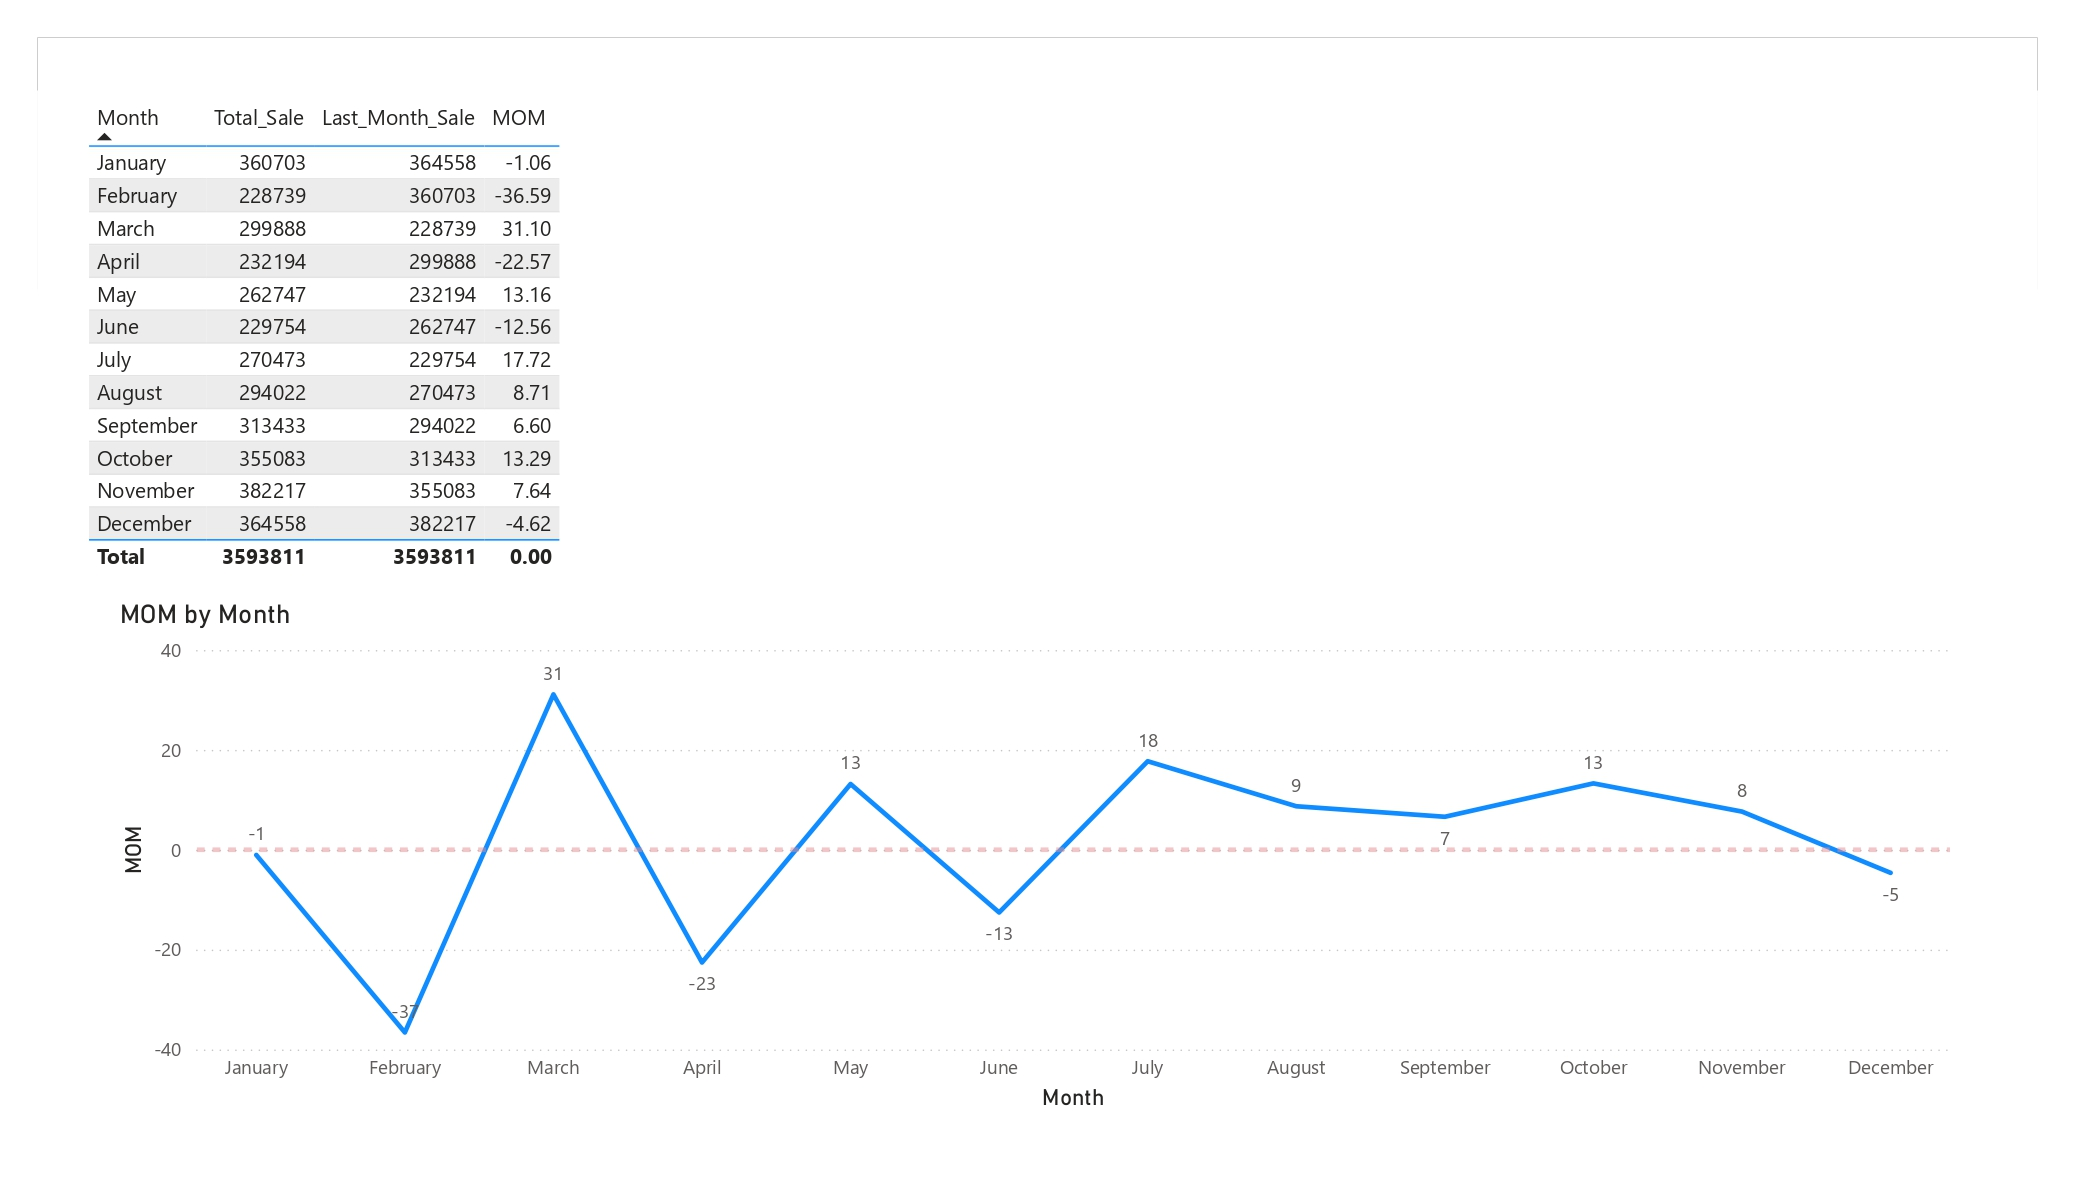

The page's visual inventory and layout, read from the dashboard file:
{"tool":"powerbi","page":{"name":"Page 12","canvas":[1280,720],"ordinal":11},"visuals":[{"type":"tableEx","fields":{"Values":["ev.Date.Variation.Date Hierarchy.Month","DAX.Total_Sale","DAX.Last_Month_Sale","DAX.MOM"]},"box":[26.5,36.4,337.9,342.9],"z":0},{"type":"lineChart","fields":{"Category":["ev.Date.Variation.Date Hierarchy.Month"],"Y":["DAX.MOM"]},"box":[48,359.5,1181.1,331.3],"z":1000}]}

Visuals, with their boxes on the page's 1280x720 design canvas (x1, y1, x2, y2). These are canvas units, not pixel positions in the 2075x1200 screenshot, which may show the page scaled, cropped or inside an application window:
tableEx - ev.Date.Variation.Date Hierarchy.Month x DAX.Total_Sale: <bbox>26, 36, 364, 379</bbox>
lineChart - ev.Date.Variation.Date Hierarchy.Month x DAX.MOM: <bbox>48, 360, 1229, 691</bbox>
